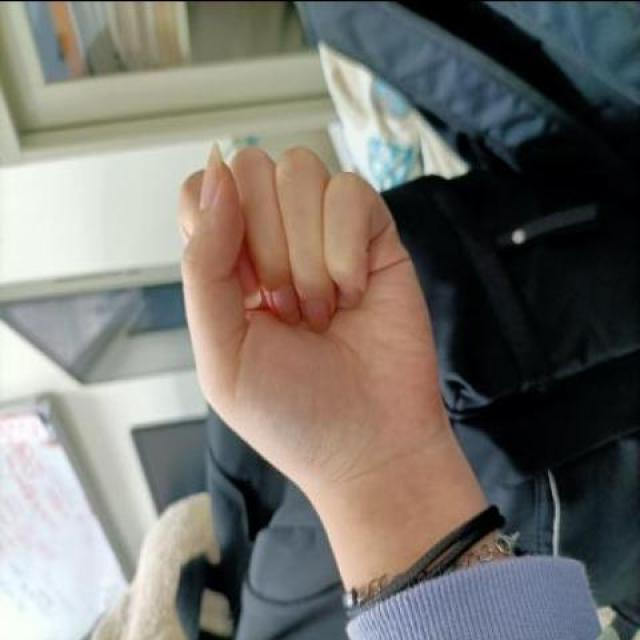fist: (170, 132, 435, 492)
